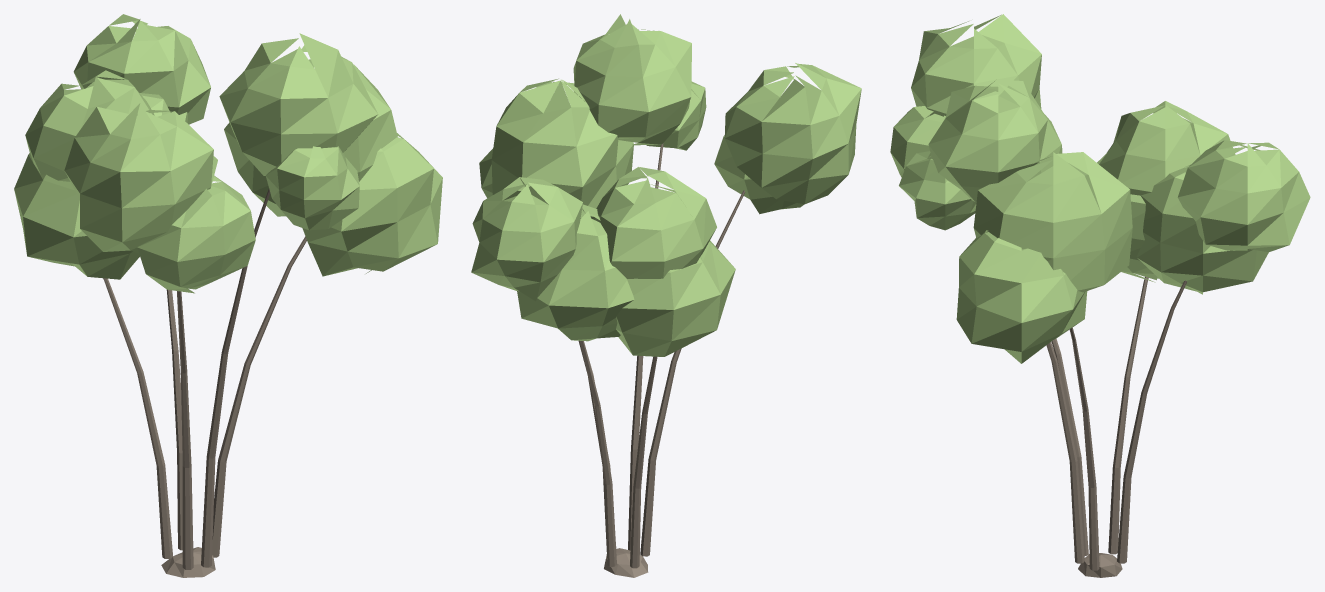
File: young-hazel-shrub.glb
The picture shows the model from 3 angles, left to right: view 1: azimuth 30°, elevation 25°; view 2: azimuth 150°, elevation 25°; view 3: azimuth 270°, elevation 25°; orthographic projection. The views are drawn at different scales.
Parts seen in each view (by area): view 1: hazel-shrub-young; view 2: hazel-shrub-young; view 3: hazel-shrub-young.
Boxes of the visible parts, bbox=[...] form: hazel-shrub-young: bbox=[14, 14, 442, 577]; hazel-shrub-young: bbox=[471, 14, 861, 577]; hazel-shrub-young: bbox=[890, 14, 1310, 577].
Bounding box in the file's own units: 2.88 × 3.98 × 2.95.
